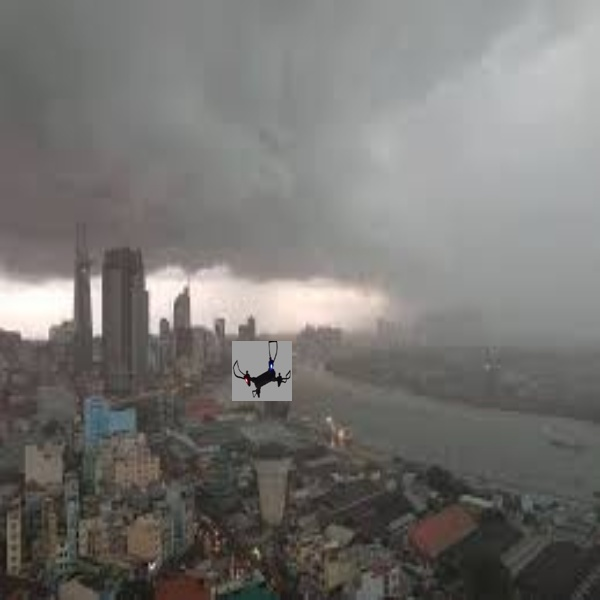drone: (229, 337, 298, 405)
